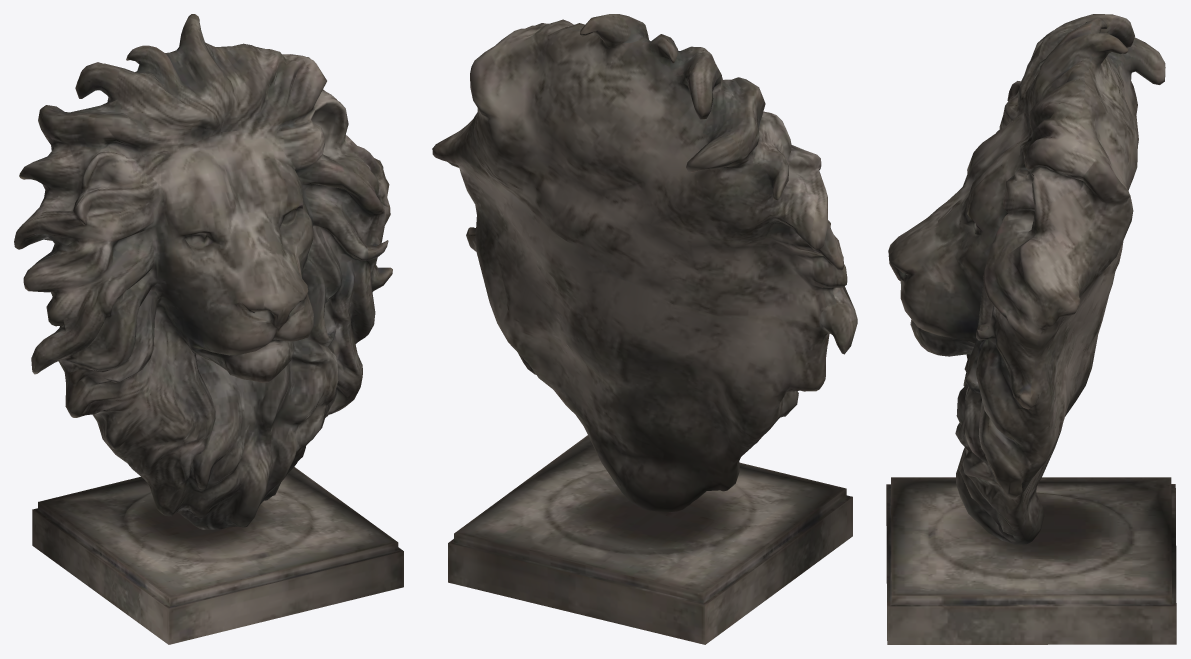
Rendered from lion_head.glb.
3 views of the same model, side by side, from view 1: azimuth 30°, elevation 25°; view 2: azimuth 150°, elevation 25°; view 3: azimuth 270°, elevation 25° (orthographic). The views are drawn at different scales.
Parts seen in each view (by area): view 1: lion_head; view 2: lion_head; view 3: lion_head.
Boxes of the visible parts, box(x1,y1,x2,y2) form: lion_head: box(14, 14, 403, 644); lion_head: box(432, 14, 857, 644); lion_head: box(886, 14, 1176, 644).
Size of the model in its own units: 0.3208 by 0.4358 by 0.2066.
Materials: 1 (1 with a texture image).
